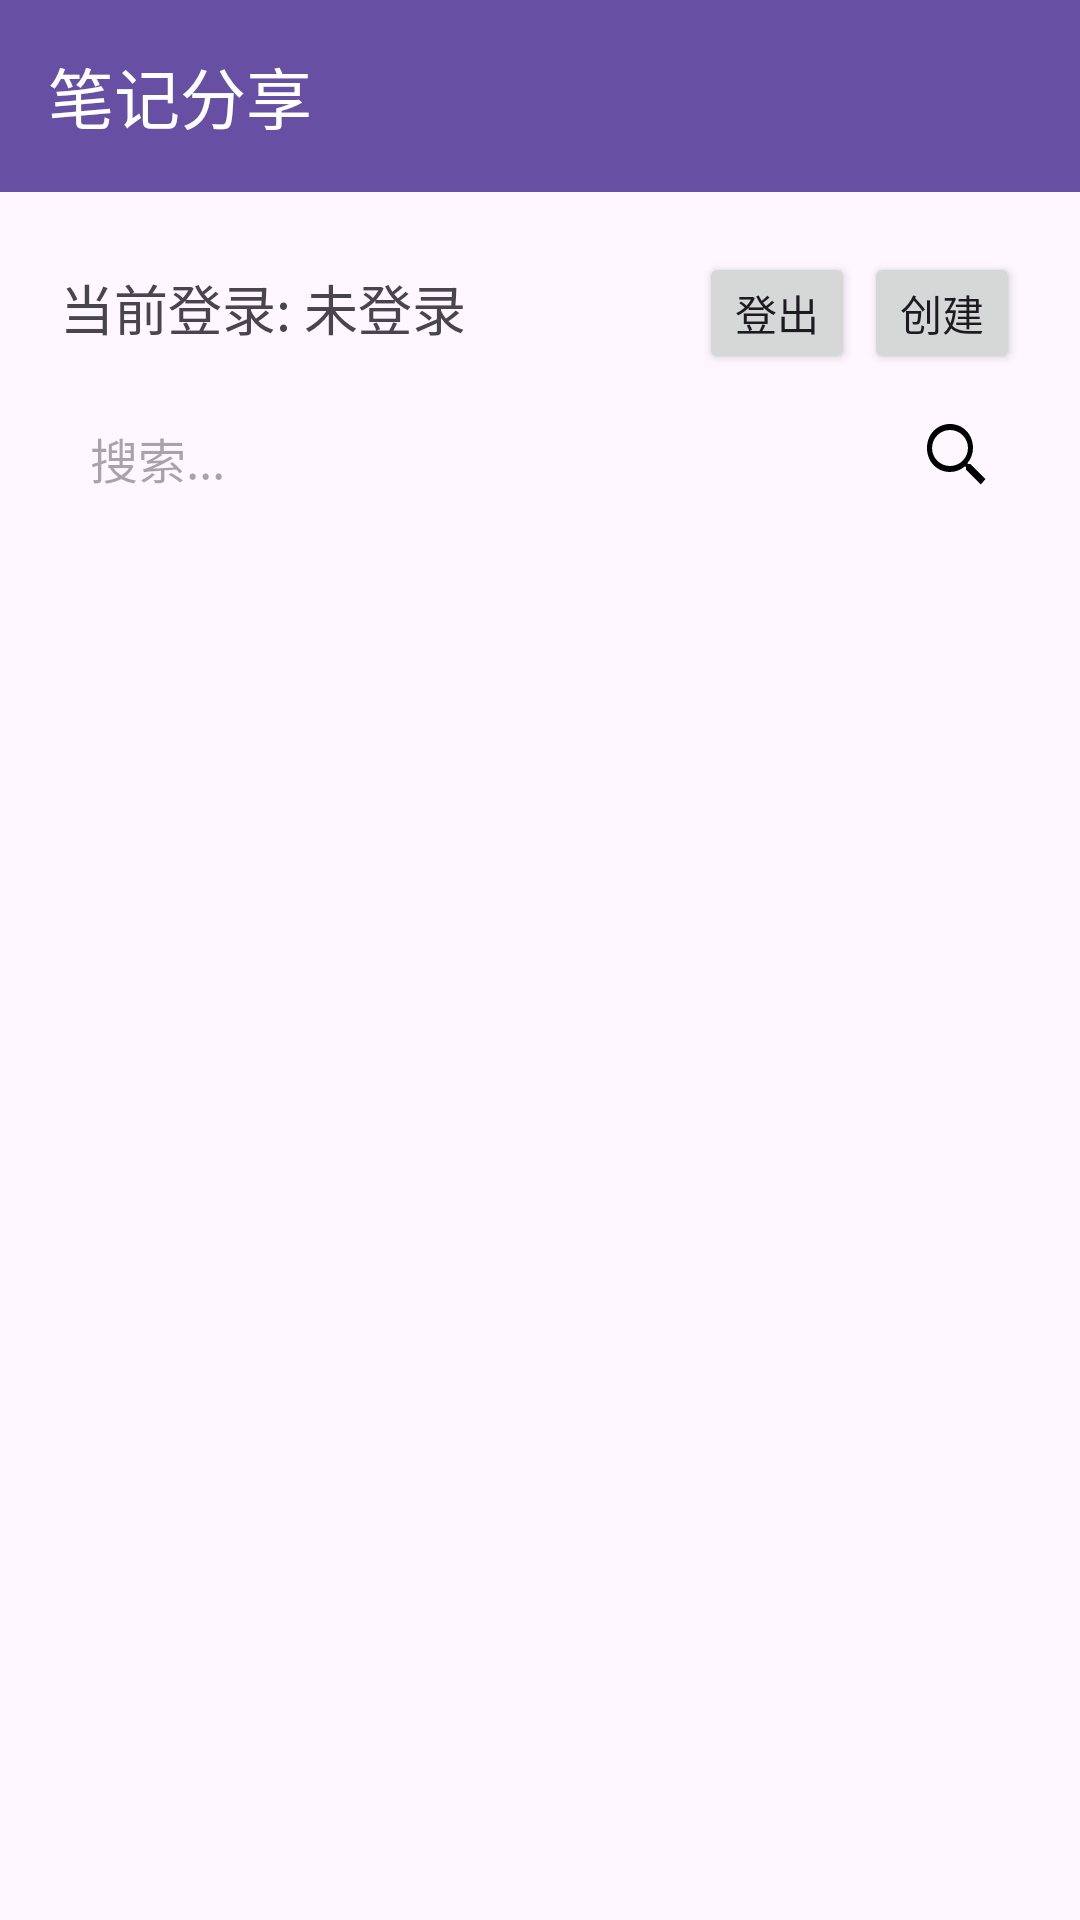

Where to tap for icons on this 1080px×1920px app screen, as (x=x, y=y):
search: (x=956, y=454)
